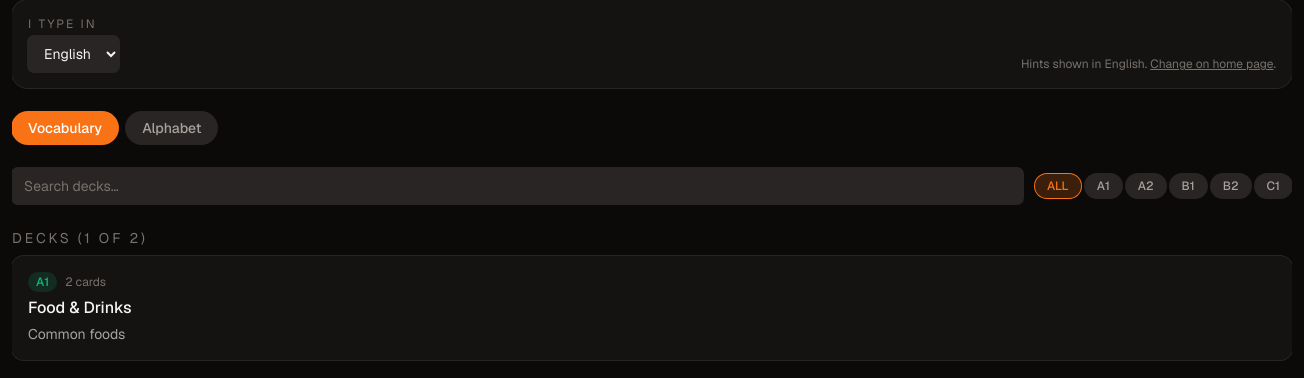
Test: VocabLanding — Vocabulary / Alphabet tab › clicking Vocabulary again restores vocab-only view
Click the tab "Alphabet" at (172, 128), box [126,112,217,144]
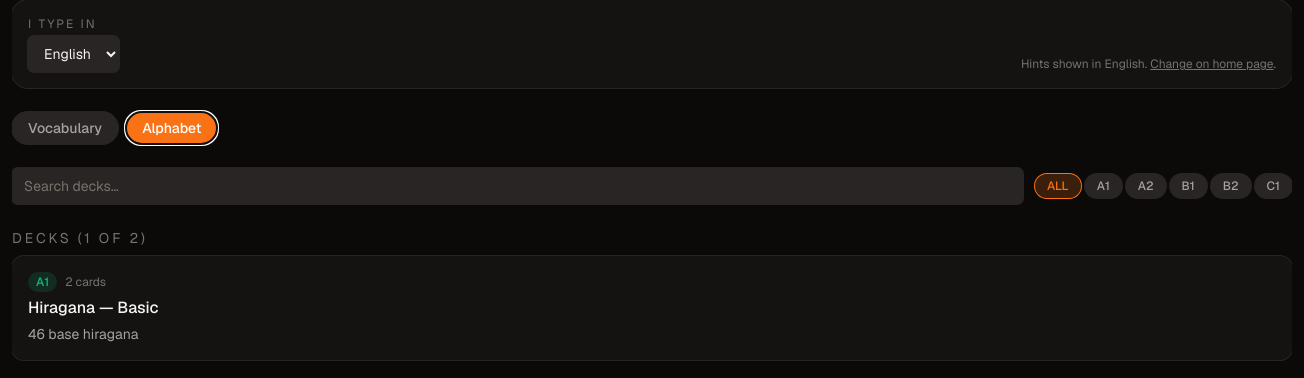
Click the tab "Vocabulary" at (65, 128), box [12,112,118,144]
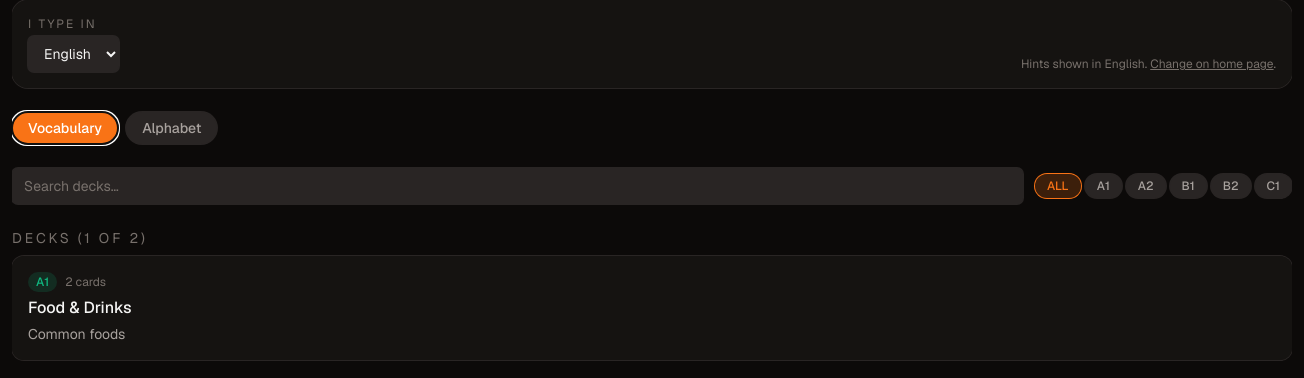
Now the text "Food & Drinks" is shown, box [28,297,132,318]
Now the link "Hiragana — Basic" is gone
